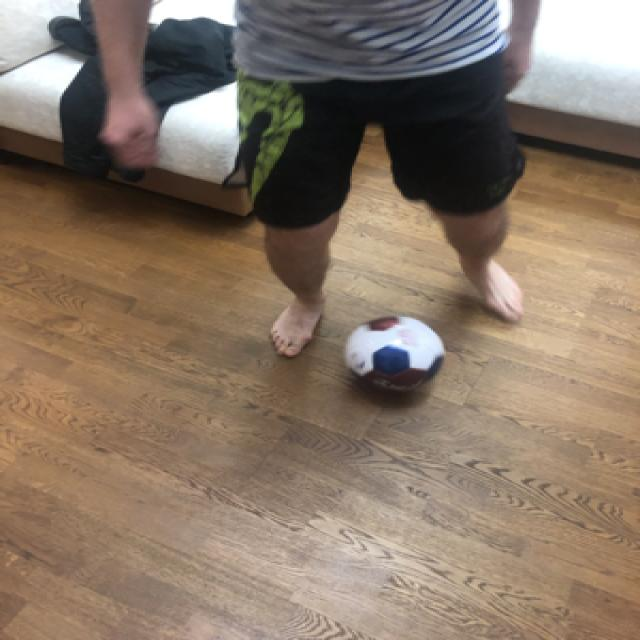soccer_ball: (341, 314, 446, 392)
